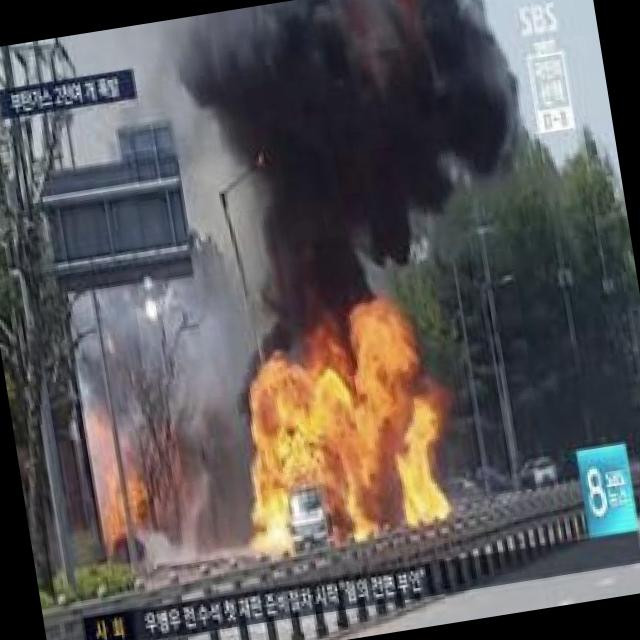Fire: (240, 338, 442, 546), (95, 468, 140, 534)
Smoke: (168, 0, 545, 349)
